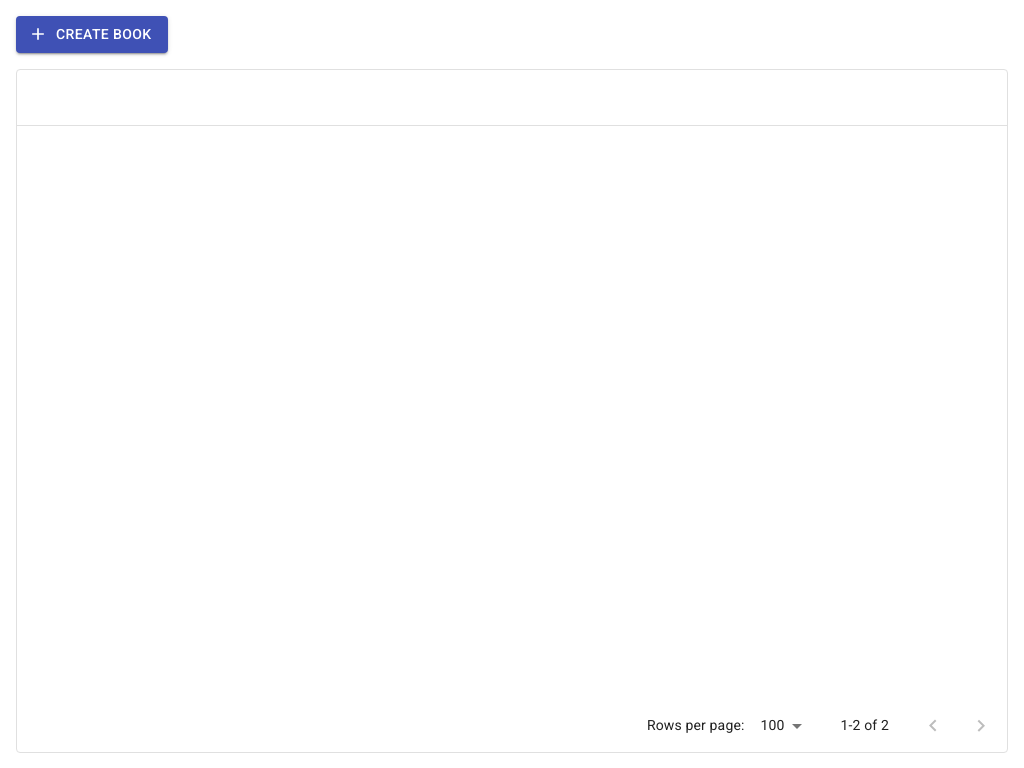
Test case: Home › should open the book's dialog
Click the button with test id "create-book-button" at point(92, 34), box [16,16,168,52]
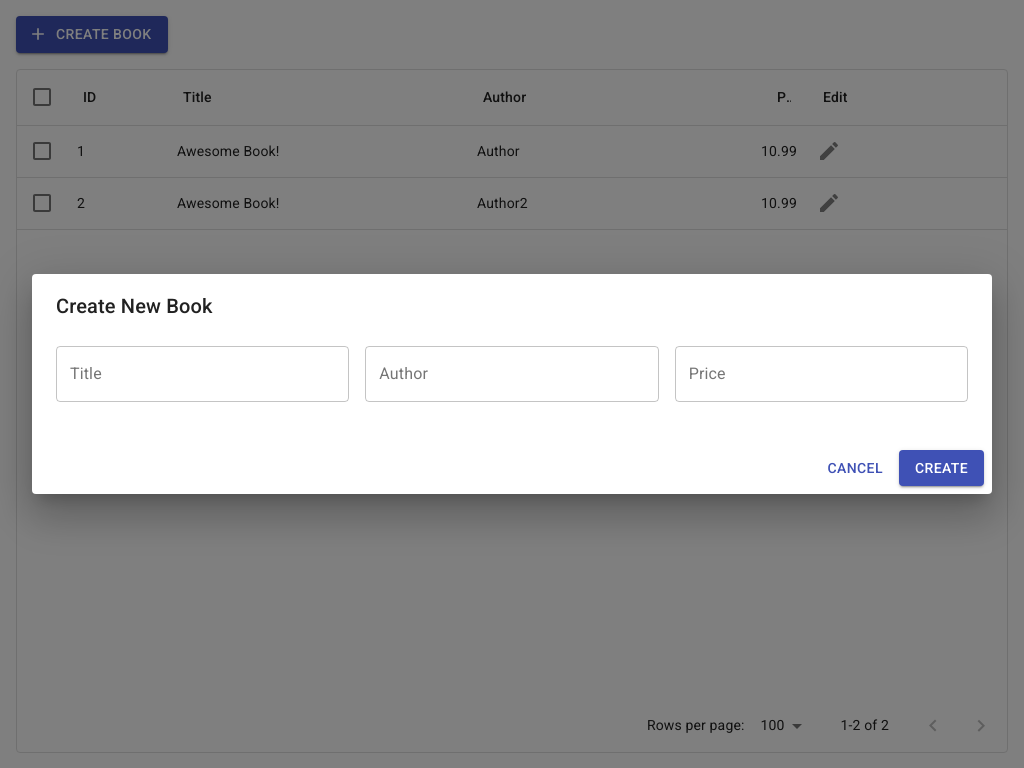
Expected: the dialog with test id "book-dialog" is shown, [32,274,992,494]
